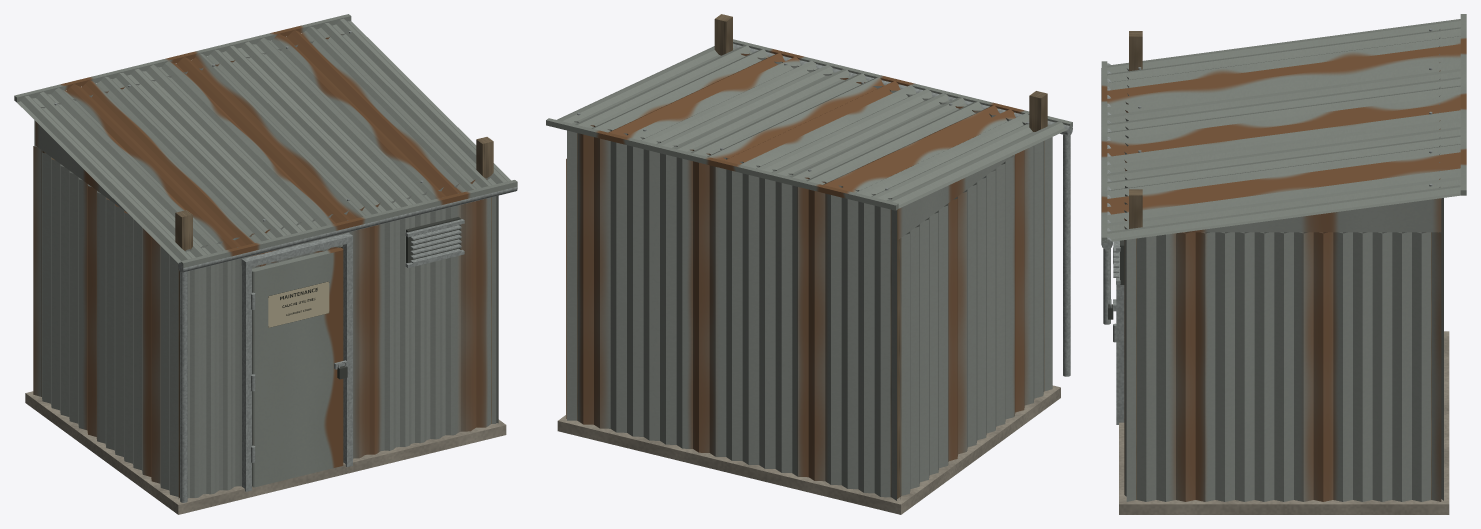
Rendered from SM_SubstationSite_Shed_LOD1.fbx.
3 renders of one model, left to right at view 1: azimuth 30°, elevation 25°; view 2: azimuth 150°, elevation 25°; view 3: azimuth 270°, elevation 25°, orthographic. The views are drawn at different scales.
Visible parts, largest first — view 1: SM_SubstationSite_Shed_LOD1; view 2: SM_SubstationSite_Shed_LOD1; view 3: SM_SubstationSite_Shed_LOD1.
Part boxes in pixels (x1,y1,x2,y2): SM_SubstationSite_Shed_LOD1: [14, 14, 517, 514]; SM_SubstationSite_Shed_LOD1: [546, 14, 1072, 514]; SM_SubstationSite_Shed_LOD1: [1101, 14, 1466, 514].
Bounding box in the file's own units: 3.18 × 2.79 × 2.75.
